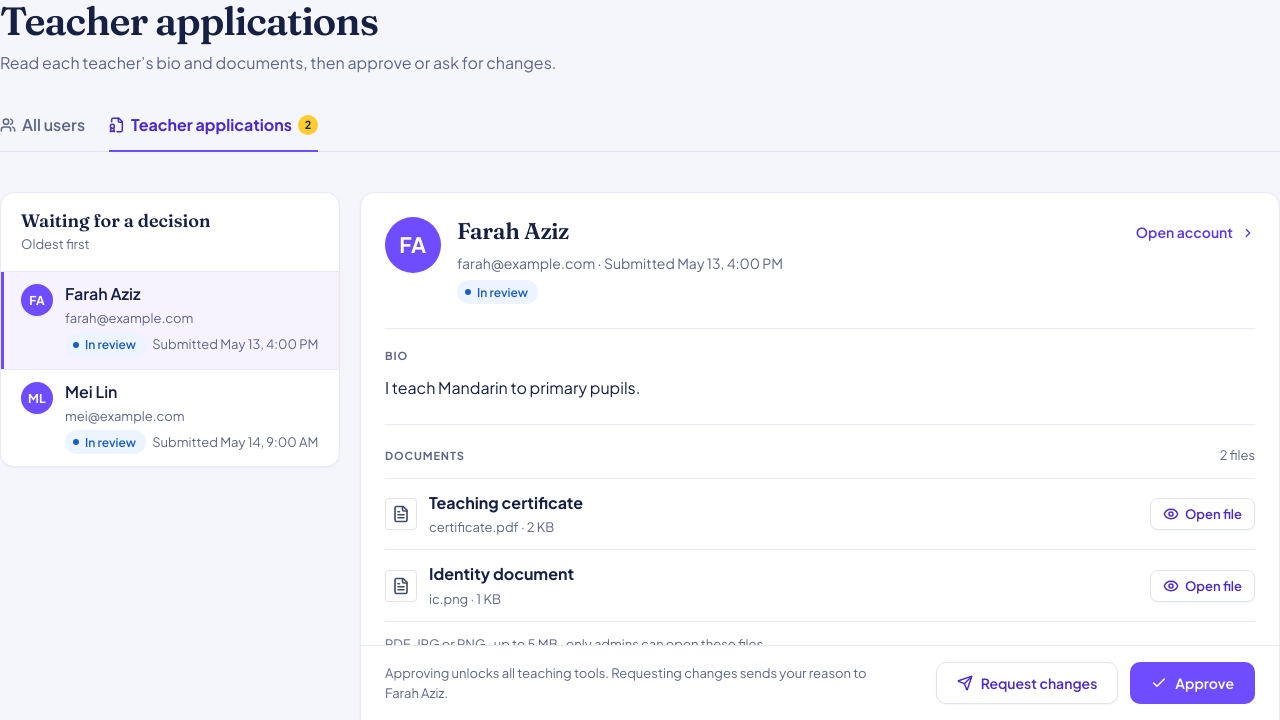
AdminTeacherApplicationsPage › approves an application and moves on to the next one waiting
This screenshot has width=1280, height=720.
Click the button with test id "admin-applications-approve".
click(1193, 683)  # box left=1130, top=662, right=1255, bottom=704
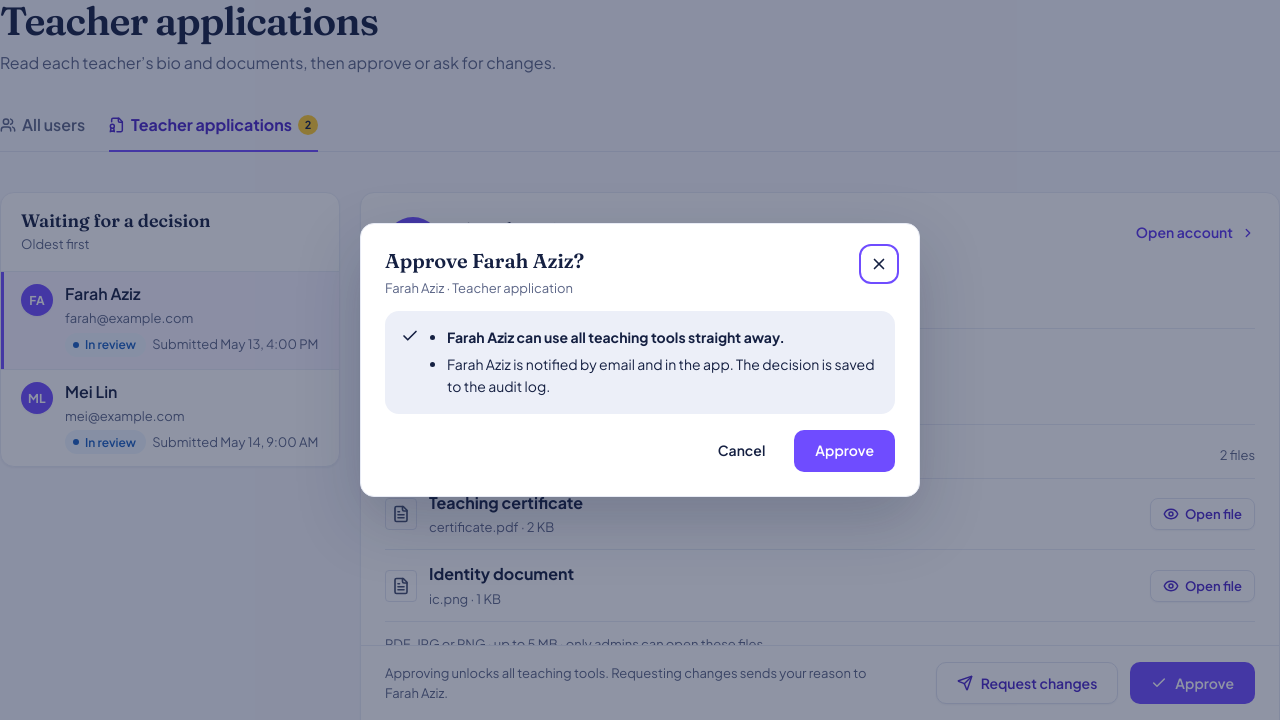
Check: the dialog with test id "admin-applications-dialog" shows "Approve Farah Aziz?", box left=385, top=248, right=584, bottom=273
Click the button with test id "admin-applications-confirm".
click(845, 451)  # box left=794, top=430, right=895, bottom=472
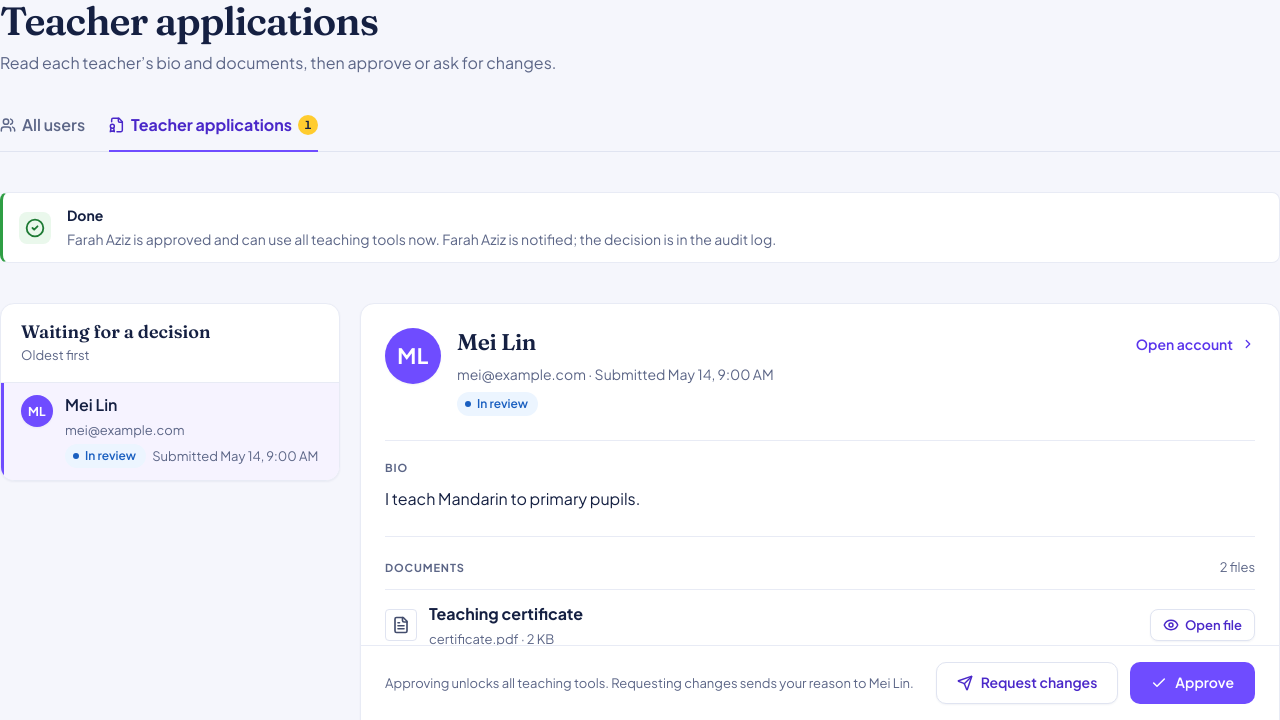
Check: the text "Farah Aziz is approved and can use all teaching tools now." is shown, box left=67, top=230, right=776, bottom=248
Check: the number of buttons with test id "admin-applications-item" is 1, box left=1, top=383, right=339, bottom=480
Check: the text with class "route-tab-count" reads "1", box left=305, top=118, right=311, bottom=131
